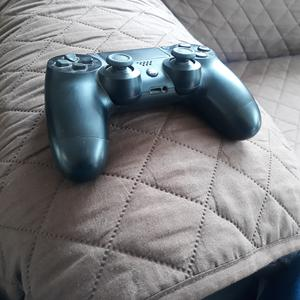controller: (44, 43, 261, 179)
